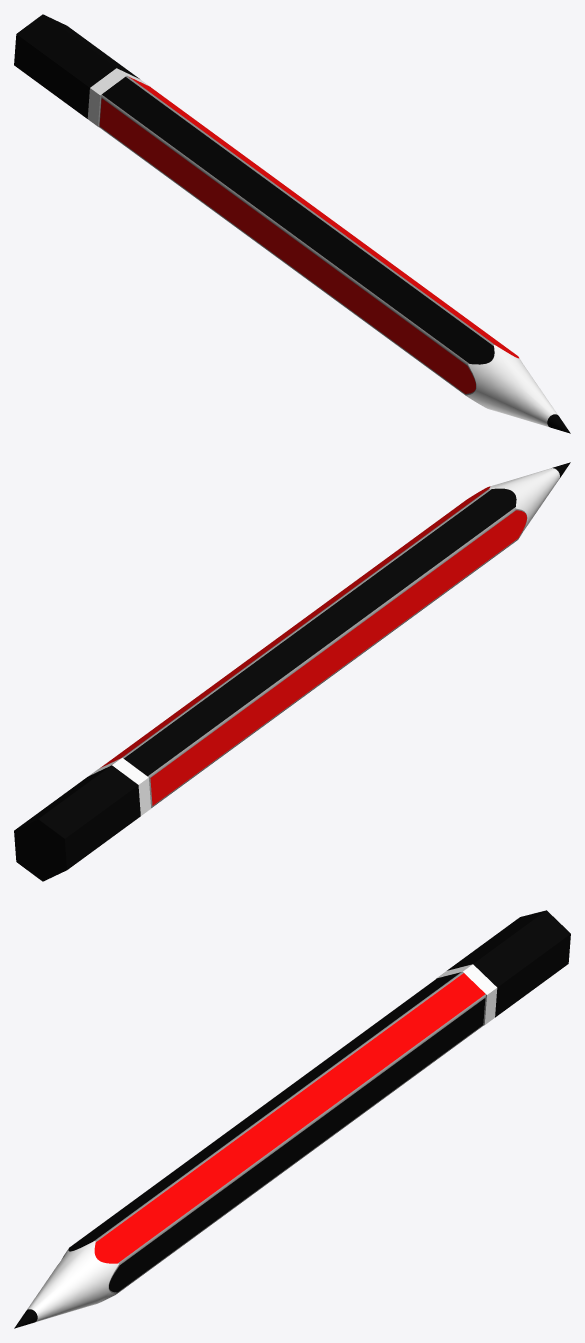
The model's file is Pencil.dae.
The picture shows the model from 3 angles, top to bottom: view 1: azimuth 30°, elevation 25°; view 2: azimuth 150°, elevation 25°; view 3: azimuth 330°, elevation 25°; orthographic projection.
Parts seen in each view (by area): view 1: Pencil003, Pencil002, Pencil001; view 2: Pencil003, Pencil002, Pencil001; view 3: Pencil003, Pencil002, Pencil001.
Boxes of the visible parts, x1,y1,x2,y2 form: Pencil003: [99, 76, 558, 427]; Pencil002: [14, 14, 139, 118]; Pencil001: [87, 68, 150, 126]; Pencil003: [99, 468, 559, 808]; Pencil002: [14, 765, 140, 881]; Pencil001: [88, 758, 150, 815]; Pencil003: [26, 972, 485, 1322]; Pencil002: [447, 910, 570, 1017]; Pencil001: [436, 964, 497, 1025].
Size of the model in its own units: 0.1042 by 1.8 by 0.1151.
